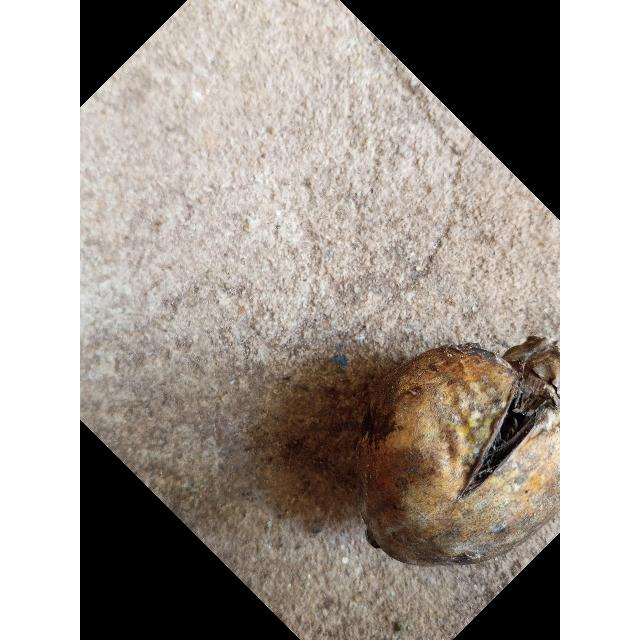damaged: (348, 338, 560, 569)
